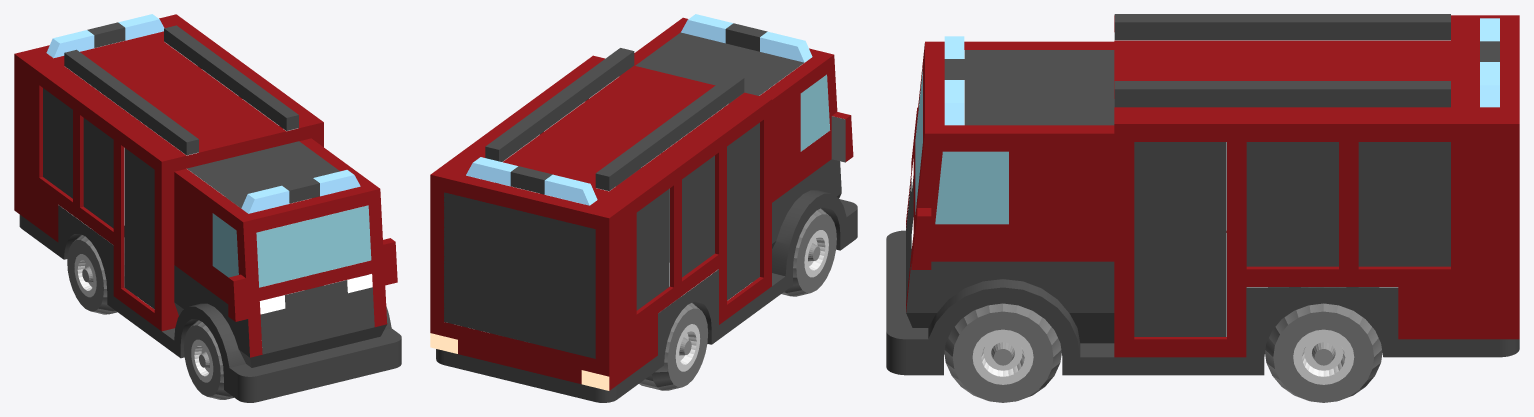
3 views of the same model, side by side, from view 1: azimuth 30°, elevation 25°; view 2: azimuth 150°, elevation 25°; view 3: azimuth 270°, elevation 25° (orthographic). The views are drawn at different scales.
Visible parts, largest first — view 1: body.002, wheel_backRight.002, wheel_frontRight.002; view 2: body.002, wheel_backRight.002, wheel_frontRight.002; view 3: body.002, wheel_backLeft.002, wheel_frontLeft.002.
Part boxes in pixels (x1,y1,x2,y2): body.002: (14,14,401,402); wheel_backRight.002: (67,230,129,314); wheel_frontRight.002: (184,320,233,399); body.002: (430,14,857,402); wheel_backRight.002: (639,297,707,390); wheel_frontRight.002: (782,208,836,296); body.002: (886,14,1519,375); wheel_backLeft.002: (1265,287,1382,402); wheel_frontLeft.002: (944,303,1061,402).
Size of the model in its own units: 1.3 by 1.7 by 3.2.
